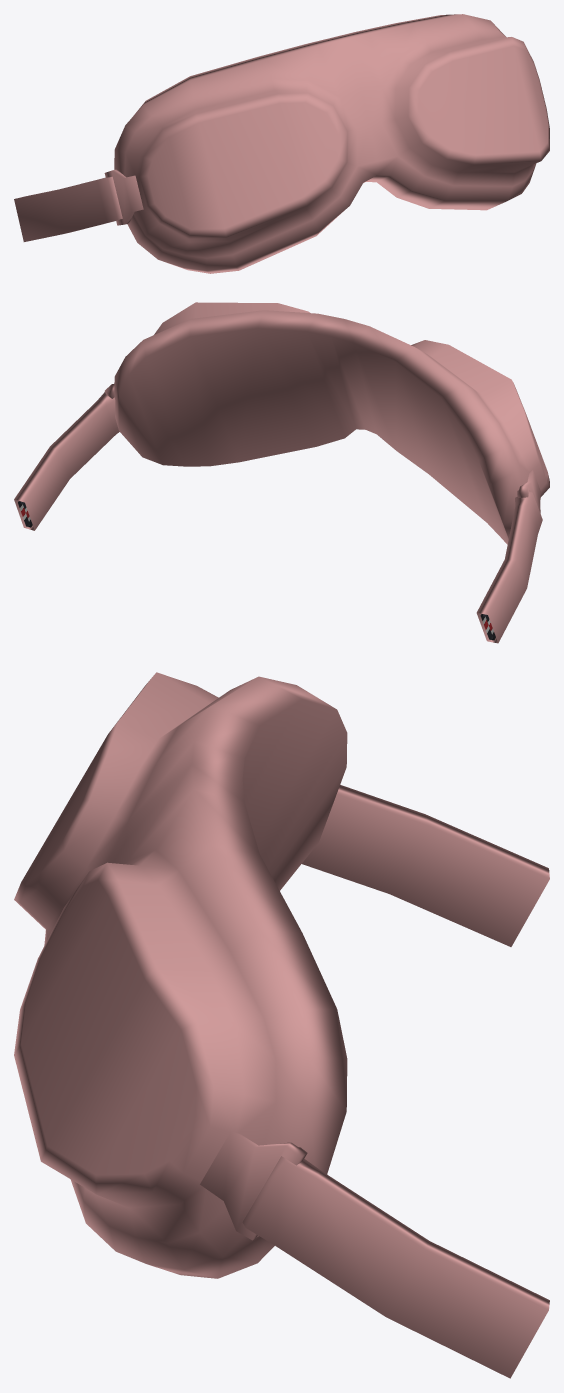
The model's file is glass_004.fbx.
3 views of the same model, one above another, from view 1: azimuth 30°, elevation 25°; view 2: azimuth 150°, elevation 25°; view 3: azimuth 270°, elevation 25° (orthographic). The views are drawn at different scales.
Visible parts, largest first — view 1: glass_004_m; view 2: glass_004_m; view 3: glass_004_m.
Boxes of the visible parts, x1,y1,x2,y2 form: glass_004_m: (14, 14, 549, 273); glass_004_m: (14, 302, 549, 643); glass_004_m: (14, 672, 549, 1378).
Bounding box in the file's own units: 10.87 × 4.51 × 5.56.
